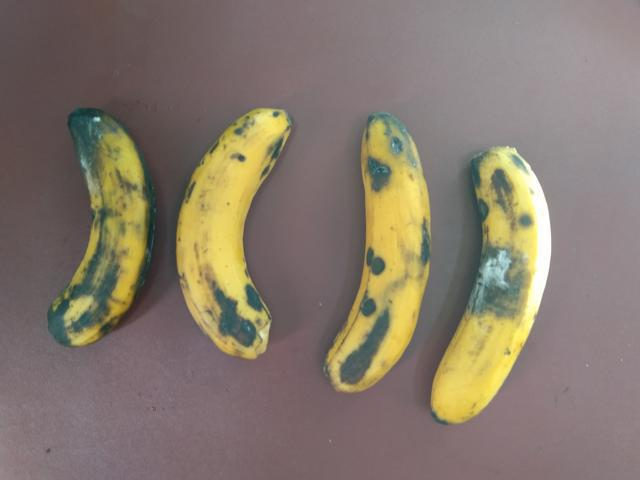overripe: (419, 128, 573, 431), (160, 93, 311, 397), (291, 115, 445, 392)
rotten: (18, 85, 170, 351), (452, 233, 537, 340)
